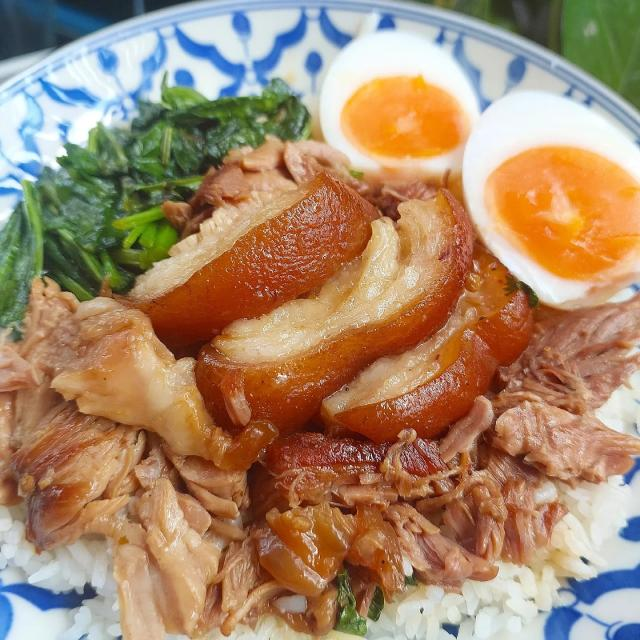carb: (443, 548, 588, 631)
meat: (74, 287, 585, 558)
stewed pork leg on rice: (0, 94, 601, 625)
vegetable: (41, 105, 222, 267)
